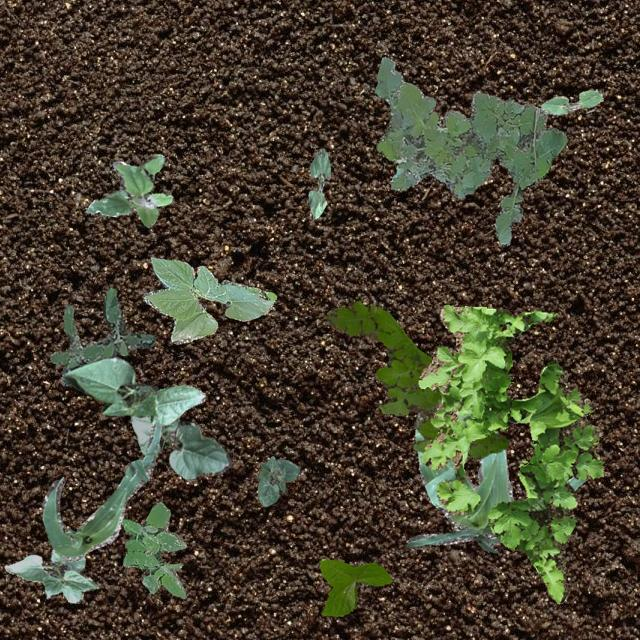crop: (404, 412, 586, 552), (41, 418, 160, 562), (142, 255, 276, 344), (62, 356, 205, 426), (130, 382, 230, 478), (3, 548, 98, 602), (318, 558, 391, 616), (254, 454, 298, 506), (540, 88, 602, 114), (308, 148, 330, 218)
weed: (418, 304, 604, 602), (374, 56, 566, 245), (324, 300, 508, 458), (49, 286, 154, 384), (85, 152, 172, 226), (120, 502, 186, 598)
